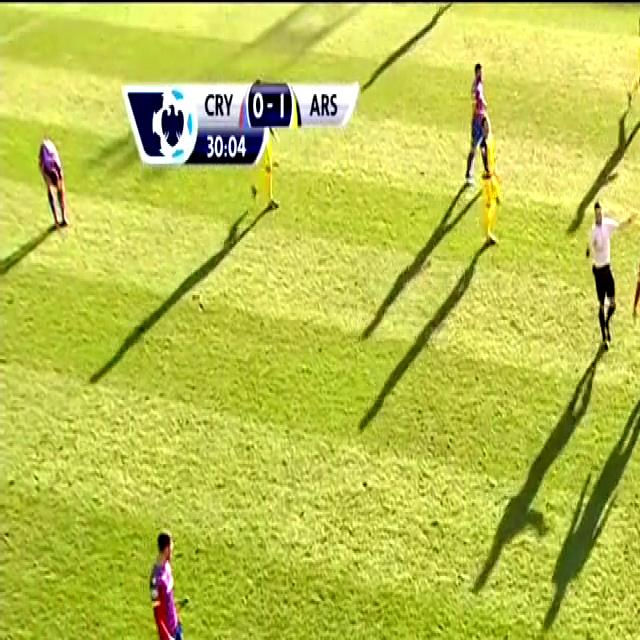referee: (580, 194, 626, 364)
soccer-player: (133, 528, 202, 640), (472, 115, 511, 248), (38, 137, 76, 235), (626, 238, 640, 380), (630, 4, 640, 94)
